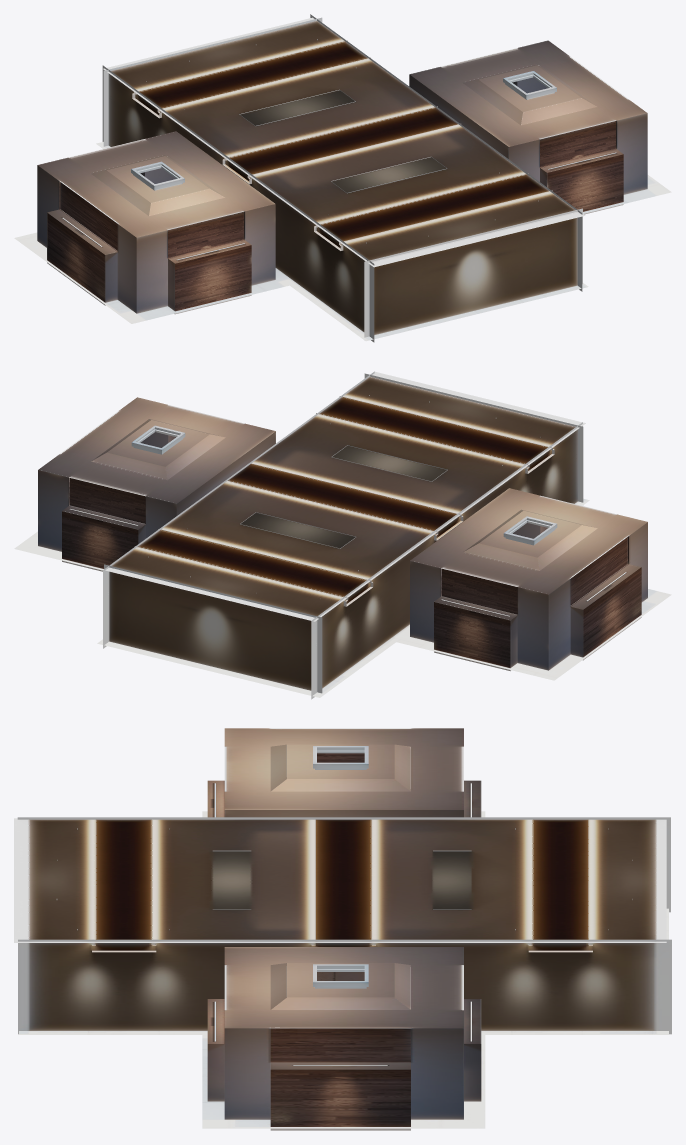
The picture shows the model from 3 angles, top to bottom: view 1: azimuth 30°, elevation 25°; view 2: azimuth 150°, elevation 25°; view 3: azimuth 270°, elevation 25°; orthographic projection. The views are drawn at different scales.
Visible parts, largest first — view 1: Geometry_Celing, Geometry_RightWall, Geometry_LeftWall, Geometry_InsideWalls, Geometry_Floor, Geometry_WoodenTopDeco; view 2: Geometry_Celing, Geometry_RightWall, Geometry_LeftWall, Geometry_InsideWalls, Geometry_Floor, Geometry_WoodenTopDeco; view 3: Geometry_LeftWall, Geometry_Celing, Geometry_RightWall, Geometry_Floor.
Boxes of the visible parts, x1,y1,x2,y2 form: Geometry_Celing: [103, 17, 585, 267]; Geometry_RightWall: [37, 65, 374, 342]; Geometry_LeftWall: [310, 14, 647, 291]; Geometry_InsideWalls: [103, 17, 582, 337]; Geometry_Floor: [14, 142, 671, 341]; Geometry_WoodenTopDeco: [132, 40, 552, 250]; Geometry_Celing: [105, 371, 585, 621]; Geometry_RightWall: [311, 422, 647, 699]; Geometry_LeftWall: [38, 371, 374, 648]; Geometry_InsideWalls: [104, 373, 583, 693]; Geometry_Floor: [14, 498, 671, 697]; Geometry_WoodenTopDeco: [134, 396, 554, 606]; Geometry_LeftWall: [18, 939, 671, 1130]; Geometry_Celing: [14, 818, 666, 942]; Geometry_RightWall: [17, 728, 670, 912]; Geometry_Floor: [19, 811, 668, 1128].
Bounding box in the file's own units: 4007 × 646 × 3511.
9 materials, 8 textured.
